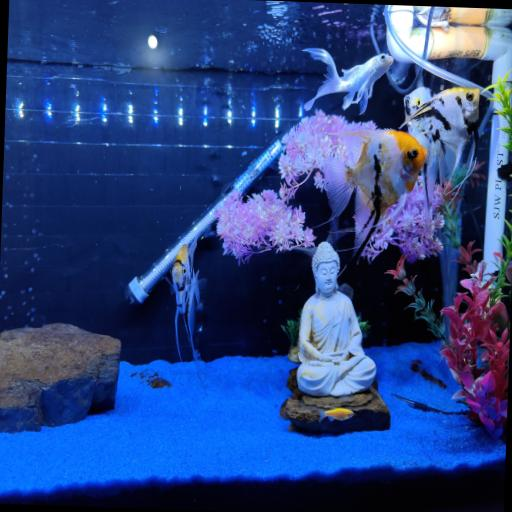Fish: (323, 130, 426, 258), (401, 87, 479, 220), (304, 48, 393, 114), (166, 240, 205, 367), (404, 87, 432, 120), (319, 408, 353, 421)
